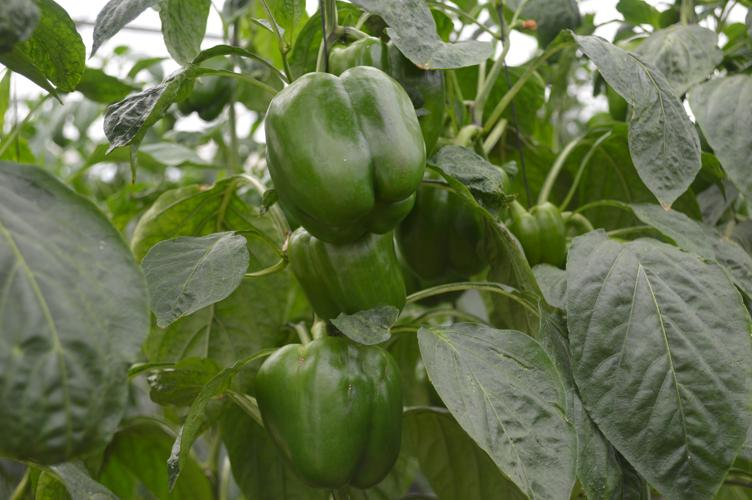BellPepper: (259, 58, 420, 239), (247, 335, 413, 494), (271, 213, 416, 326), (394, 153, 494, 292), (505, 194, 574, 276)
